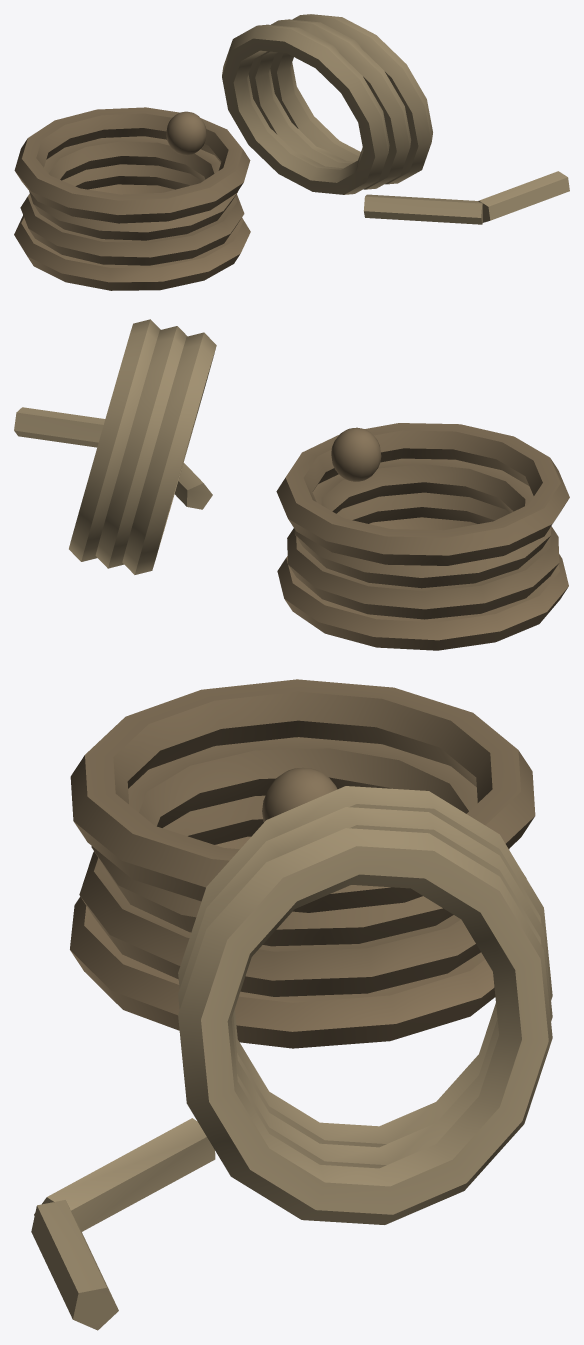
File: rope_coil_b.glb
The picture shows the model from 3 angles, top to bottom: view 1: azimuth 30°, elevation 25°; view 2: azimuth 150°, elevation 25°; view 3: azimuth 270°, elevation 25°; orthographic projection. The views are drawn at different scales.
Visible parts, largest first — view 1: Surface; view 2: Surface; view 3: Surface.
Boxes of the visible parts, box(x1,y1,x2,y2) form: Surface: box(14, 14, 569, 290); Surface: box(14, 319, 569, 650); Surface: box(31, 679, 552, 1330).
Bounding box in the file's own units: 2.68 × 0.9495 × 1.25.
